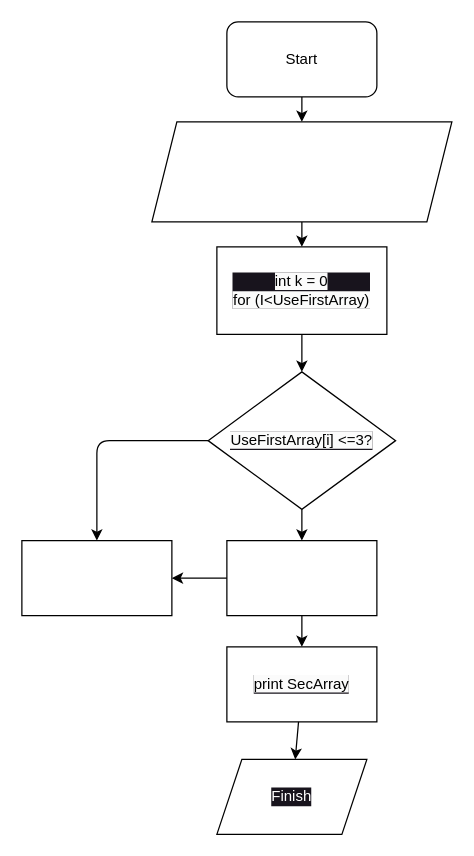
Some shapes in this 474 by 856 pixel diagram are drawn without their labels. The shapes that lost their labels are listed below. From the top down, each one's centre as x and y in pixels, then its label:
[301,171]: string UseFirstArray = {"hello", "2", "world",":-):} string SecArray
[96,577]: k++
[301,577]: SecArray = UseFirstArray
